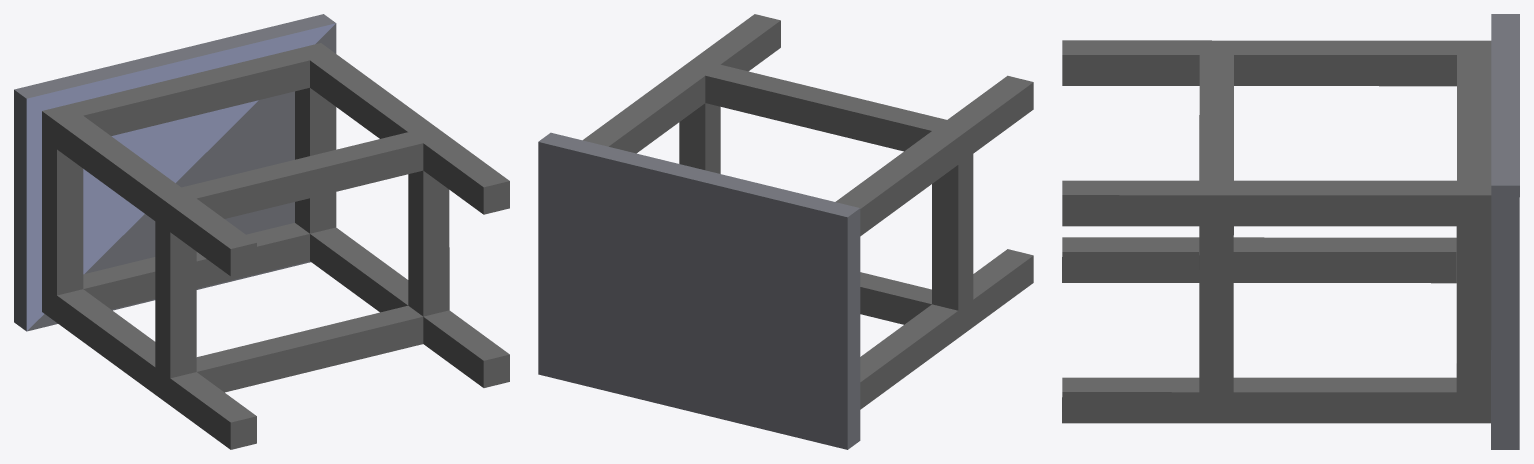
The model's file is stool.dae.
3 renders of one model, left to right at view 1: azimuth 30°, elevation 25°; view 2: azimuth 150°, elevation 25°; view 3: azimuth 270°, elevation 25°, orthographic. The views are drawn at different scales.
Visible parts, largest first — view 1: ShapeIndexedFaceSet, ShapeIndexedFaceSet_001, ShapeIndexedFaceSet_002; view 2: ShapeIndexedFaceSet_001, ShapeIndexedFaceSet; view 3: ShapeIndexedFaceSet, ShapeIndexedFaceSet_001, ShapeIndexedFaceSet_002.
Boxes of the visible parts, x1,y1,x2,y2 form: ShapeIndexedFaceSet: (42,43,509,449); ShapeIndexedFaceSet_001: (14,14,336,331); ShapeIndexedFaceSet_002: (42,43,332,148); ShapeIndexedFaceSet_001: (538,132,860,449); ShapeIndexedFaceSet: (583,14,1033,409); ShapeIndexedFaceSet: (1062,40,1491,423); ShapeIndexedFaceSet_001: (1491,14,1519,449); ShapeIndexedFaceSet_002: (1457,40,1491,226).
Size of the model in its own units: 0.355 by 0.4001 by 0.255.
